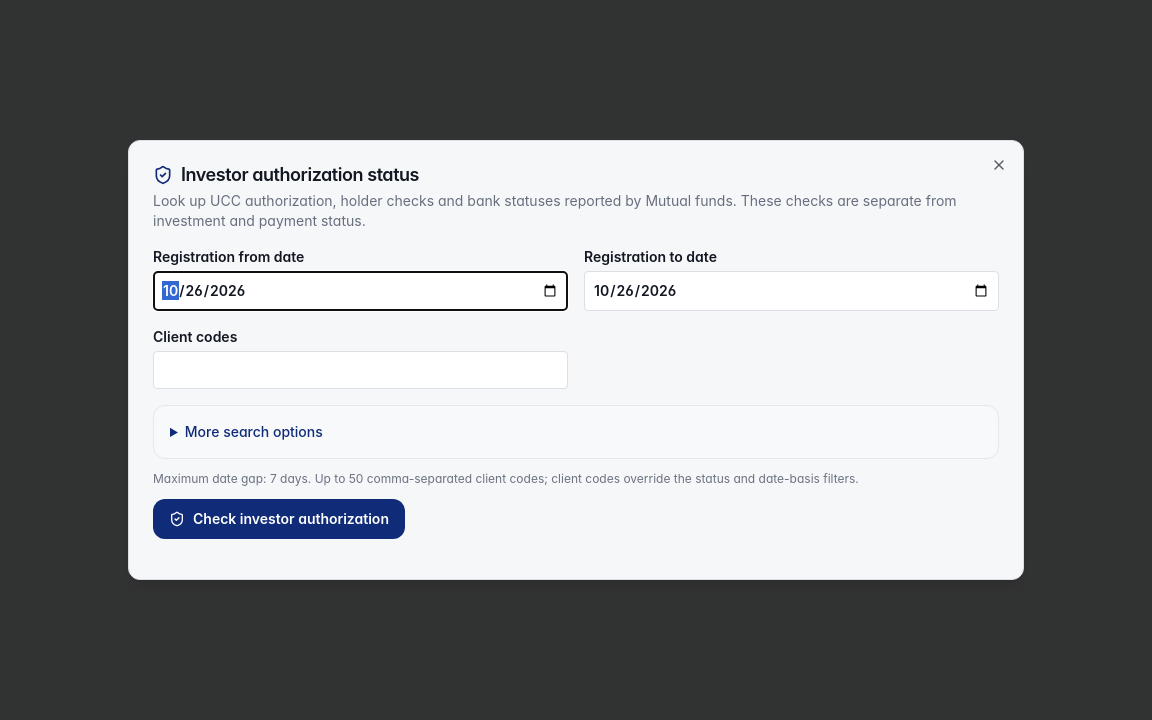
Test: treats a successful empty report with a remark as no records
The image size is (1152, 720).
Click the button "Check investor authorization" at (279, 519), box [153,499,405,539]
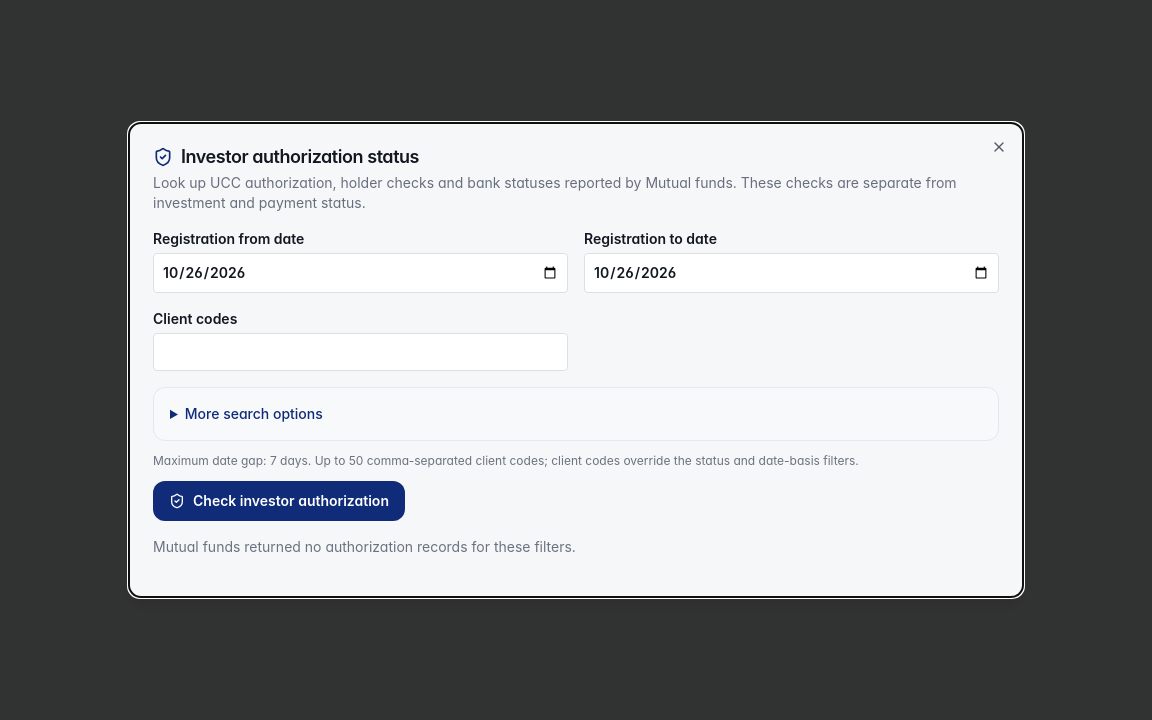
Check: the message shows "no authorization records", box [153,538,576,555]
